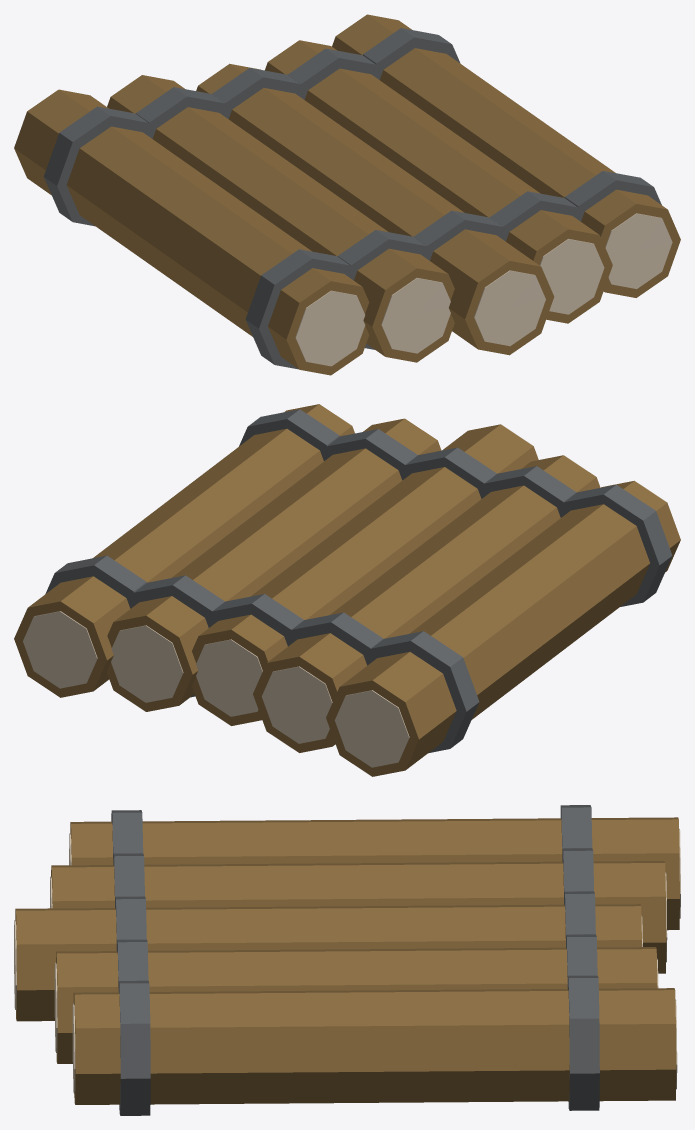
File: boat.glb
3 renders of one model, top to bottom at view 1: azimuth 30°, elevation 25°; view 2: azimuth 150°, elevation 25°; view 3: azimuth 270°, elevation 25°, orthographic. The views are drawn at different scales.
Parts seen in each view (by area): view 1: Mesh_Mesh_head_geo.001_lambert2SG.001; view 2: Mesh_Mesh_head_geo.001_lambert2SG.001; view 3: Mesh_Mesh_head_geo.001_lambert2SG.001.
Boxes of the visible parts, <box> form: Mesh_Mesh_head_geo.001_lambert2SG.001: <box>14,14,680,375</box>; Mesh_Mesh_head_geo.001_lambert2SG.001: <box>14,404,680,776</box>; Mesh_Mesh_head_geo.001_lambert2SG.001: <box>14,805,680,1115</box>.
Size of the model in its own units: 5.36 by 1.41 by 6.38.
